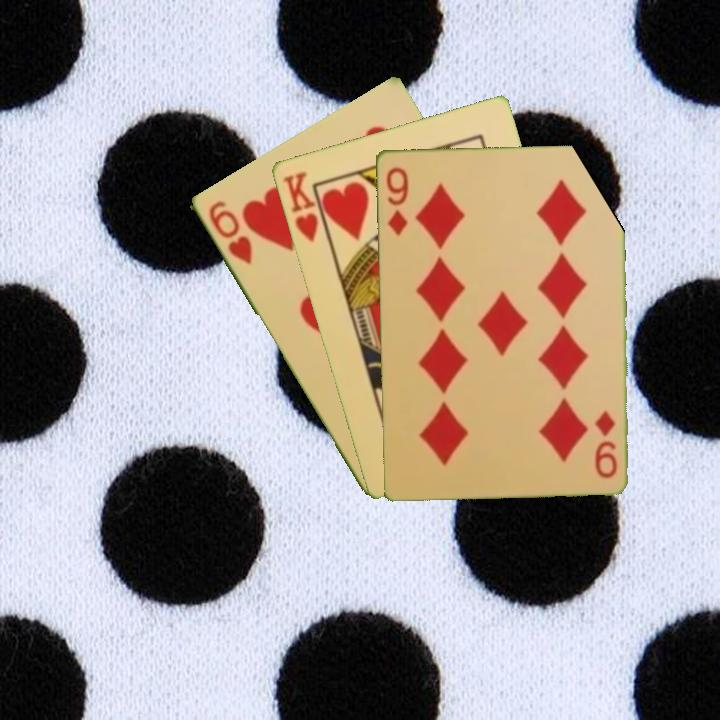6h: (204, 197, 255, 267)
9d: (382, 163, 411, 238), (591, 407, 620, 481)
Kh: (278, 167, 331, 245)
